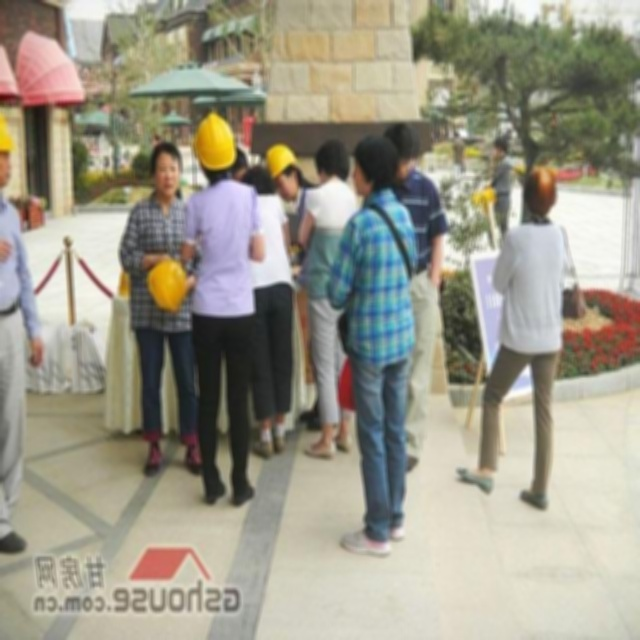Con_Casco: (190, 108, 236, 180)
Sin_Casco_Mascarrilla: (315, 138, 351, 188)
Sin_Chaleco: (340, 197, 416, 362), (185, 180, 259, 324)
